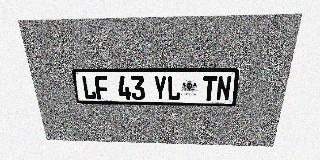3: (131, 76, 145, 100)
4: (117, 76, 132, 100)
F: (94, 76, 109, 100)
L: (81, 76, 97, 99), (167, 76, 181, 100)
N: (216, 76, 232, 101)
T: (202, 76, 217, 101)
Y: (153, 76, 167, 100)
